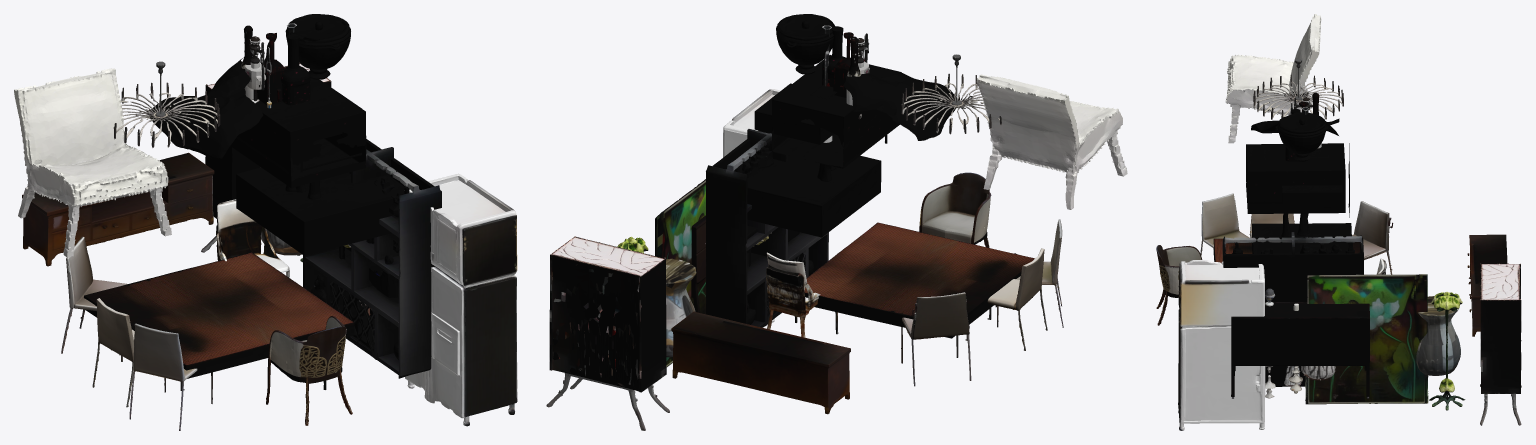
Rendered from scenegen.glb.
3 views of the same model, side by side, from view 1: azimuth 30°, elevation 25°; view 2: azimuth 150°, elevation 25°; view 3: azimuth 270°, elevation 25° (orthographic). The views are drawn at different scales.
Visible parts, largest first — view 1: geometry_21, geometry_13, geometry_7, geometry_1, geometry_31, geometry_11, geometry_5, geometry_18, geometry_2, geometry_8, geometry_19, geometry_9 (+4 smaller); view 2: geometry_13, geometry_0, geometry_1, geometry_7, geometry_5, geometry_31, geometry_11, geometry_18, geometry_3, geometry_9, geometry_19, geometry_2 (+6 smaller); view 3: geometry_21, geometry_3, geometry_25, geometry_13, geometry_7, geometry_0, geometry_11, geometry_31, geometry_4, geometry_5, geometry_2, geometry_8 (+6 smaller).
Part boxes in pixels (x1=…): geometry_21: x1=404, y1=173, x2=517, y2=426; geometry_13: x1=149, y1=14, x2=404, y2=255; geometry_7: x1=303, y1=139, x2=441, y2=378; geometry_1: x1=84, y1=252, x2=354, y2=378; geometry_31: x1=14, y1=68, x2=171, y2=257; geometry_11: x1=230, y1=34, x2=366, y2=188; geometry_5: x1=22, y1=152, x2=214, y2=266; geometry_18: x1=266, y1=315, x2=352, y2=425; geometry_2: x1=113, y1=61, x2=220, y2=147; geometry_8: x1=129, y1=323, x2=212, y2=430; geometry_19: x1=216, y1=199, x2=289, y2=277; geometry_9: x1=61, y1=236, x2=127, y2=361; geometry_13: x1=739, y1=14, x2=955, y2=237; geometry_0: x1=546, y1=236, x2=669, y2=430; geometry_1: x1=804, y1=222, x2=1034, y2=338; geometry_7: x1=706, y1=129, x2=828, y2=327; geometry_5: x1=671, y1=311, x2=850, y2=414; geometry_31: x1=976, y1=74, x2=1127, y2=209; geometry_11: x1=772, y1=26, x2=901, y2=168; geometry_18: x1=919, y1=172, x2=991, y2=247; geometry_3: x1=656, y1=180, x2=705, y2=367; geometry_9: x1=901, y1=292, x2=971, y2=386; geometry_19: x1=766, y1=252, x2=838, y2=337; geometry_2: x1=901, y1=54, x2=1001, y2=134; geometry_21: x1=1178, y1=260, x2=1265, y2=430; geometry_3: x1=1305, y1=274, x2=1428, y2=404; geometry_25: x1=1231, y1=302, x2=1369, y2=398; geometry_13: x1=1251, y1=112, x2=1351, y2=253; geometry_7: x1=1222, y1=232, x2=1363, y2=386; geometry_0: x1=1480, y1=263, x2=1521, y2=425; geometry_11: x1=1246, y1=109, x2=1345, y2=213; geometry_31: x1=1225, y1=14, x2=1321, y2=143; geometry_4: x1=1416, y1=296, x2=1460, y2=375; geometry_5: x1=1467, y1=234, x2=1507, y2=336; geometry_2: x1=1253, y1=58, x2=1343, y2=119; geometry_8: x1=1200, y1=193, x2=1249, y2=255.
Size of the model in its own units: 1.96 by 1.57 by 1.9.
Materials: 28 (27 with a texture image).
